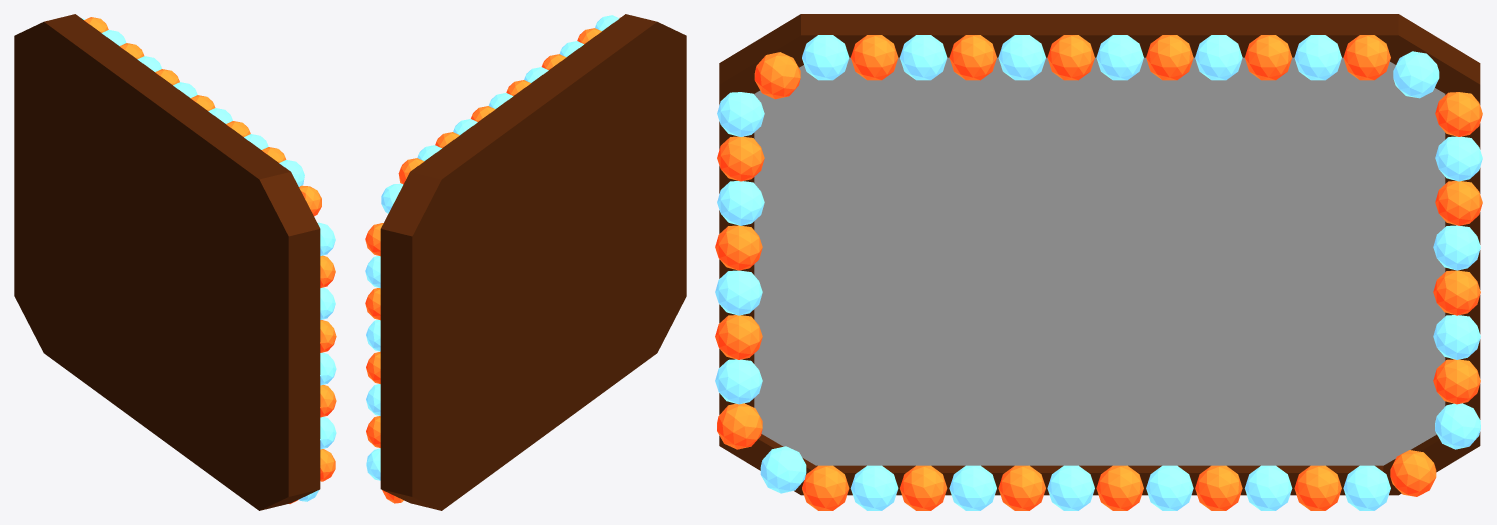
The model's file is Board.fbx.
3 views of the same model, side by side, from view 1: azimuth 30°, elevation 25°; view 2: azimuth 150°, elevation 25°; view 3: azimuth 270°, elevation 25° (orthographic). The views are drawn at different scales.
Visible parts, largest first — view 1: Bboard; view 2: Bboard; view 3: Bboard.
Boxes of the visible parts, x1,y1,x2,y2 form: Bboard: (14, 14, 336, 510); Bboard: (365, 14, 686, 510); Bboard: (715, 14, 1482, 510).
Size of the model in its own units: 32.78 by 206 by 303.
